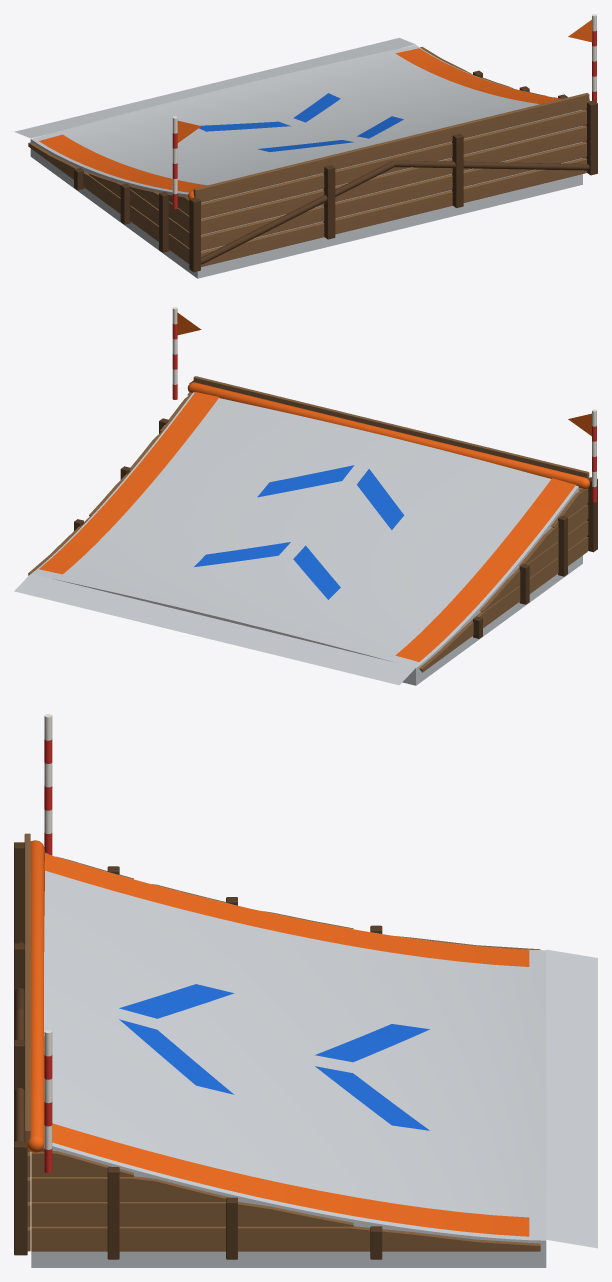
Rendered from kar-rampa-kisa.glb.
3 views of the same model, one above another, from view 1: azimuth 30°, elevation 25°; view 2: azimuth 150°, elevation 25°; view 3: azimuth 270°, elevation 25° (orthographic). The views are drawn at different scales.
Parts seen in each view (by area): view 1: kar-rampa.001, tahta-rampa, tahta-dikme, turuncu-rampa, mavi-boya, beyaz-direk, kirmizi-direk; view 2: kar-rampa.001, turuncu-rampa, tahta-rampa, mavi-boya, tahta-dikme, beyaz-direk, kirmizi-direk; view 3: kar-rampa.001, tahta-rampa, turuncu-rampa, tahta-dikme, mavi-boya, beyaz-direk, kirmizi-direk.
Part boxes in pixels (left/top/right/bottom): kar-rampa.001: left=14, top=38, right=582, bottom=278; tahta-rampa: left=28, top=46, right=589, bottom=266; tahta-dikme: left=74, top=70, right=597, bottom=272; turuncu-rampa: left=39, top=19, right=592, bottom=199; mavi-boya: left=199, top=93, right=403, bottom=152; beyaz-direk: left=172, top=14, right=596, bottom=194; kirmizi-direk: left=172, top=30, right=596, bottom=209; kar-rampa.001: left=14, top=392, right=582, bottom=685; turuncu-rampa: left=39, top=312, right=591, bottom=661; tahta-rampa: left=28, top=376, right=589, bottom=672; mavi-boya: left=194, top=465, right=404, bottom=599; tahta-dikme: left=74, top=380, right=597, bottom=638; beyaz-direk: left=172, top=307, right=596, bottom=487; kirmizi-direk: left=172, top=324, right=596, bottom=502; kar-rampa.001: left=31, top=855, right=597, bottom=1267; tahta-rampa: left=24, top=833, right=540, bottom=1251; turuncu-rampa: left=27, top=840, right=529, bottom=1236; tahta-dikme: left=14, top=842, right=382, bottom=1259; mavi-boya: left=119, top=984, right=429, bottom=1130; beyaz-direk: left=44, top=714, right=52, bottom=1149; kirmizi-direk: left=44, top=739, right=52, bottom=1173.
Bounding box in the file's own units: 8.79 × 3.2 × 6.8.
